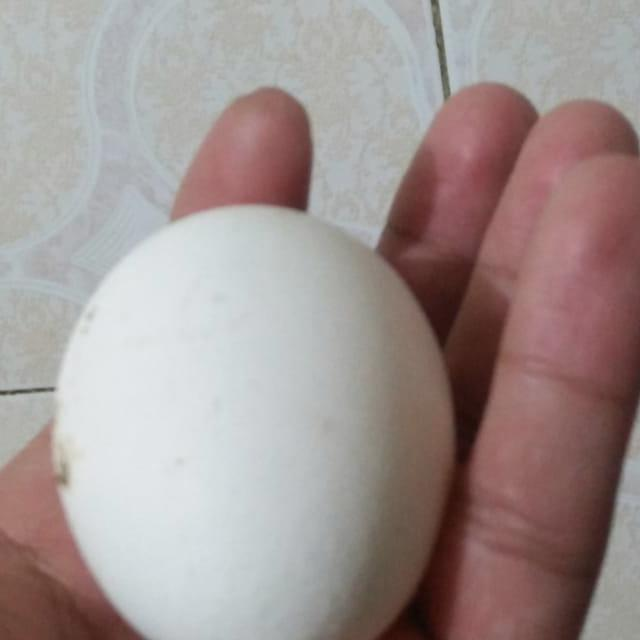egg: (47, 200, 460, 640)
